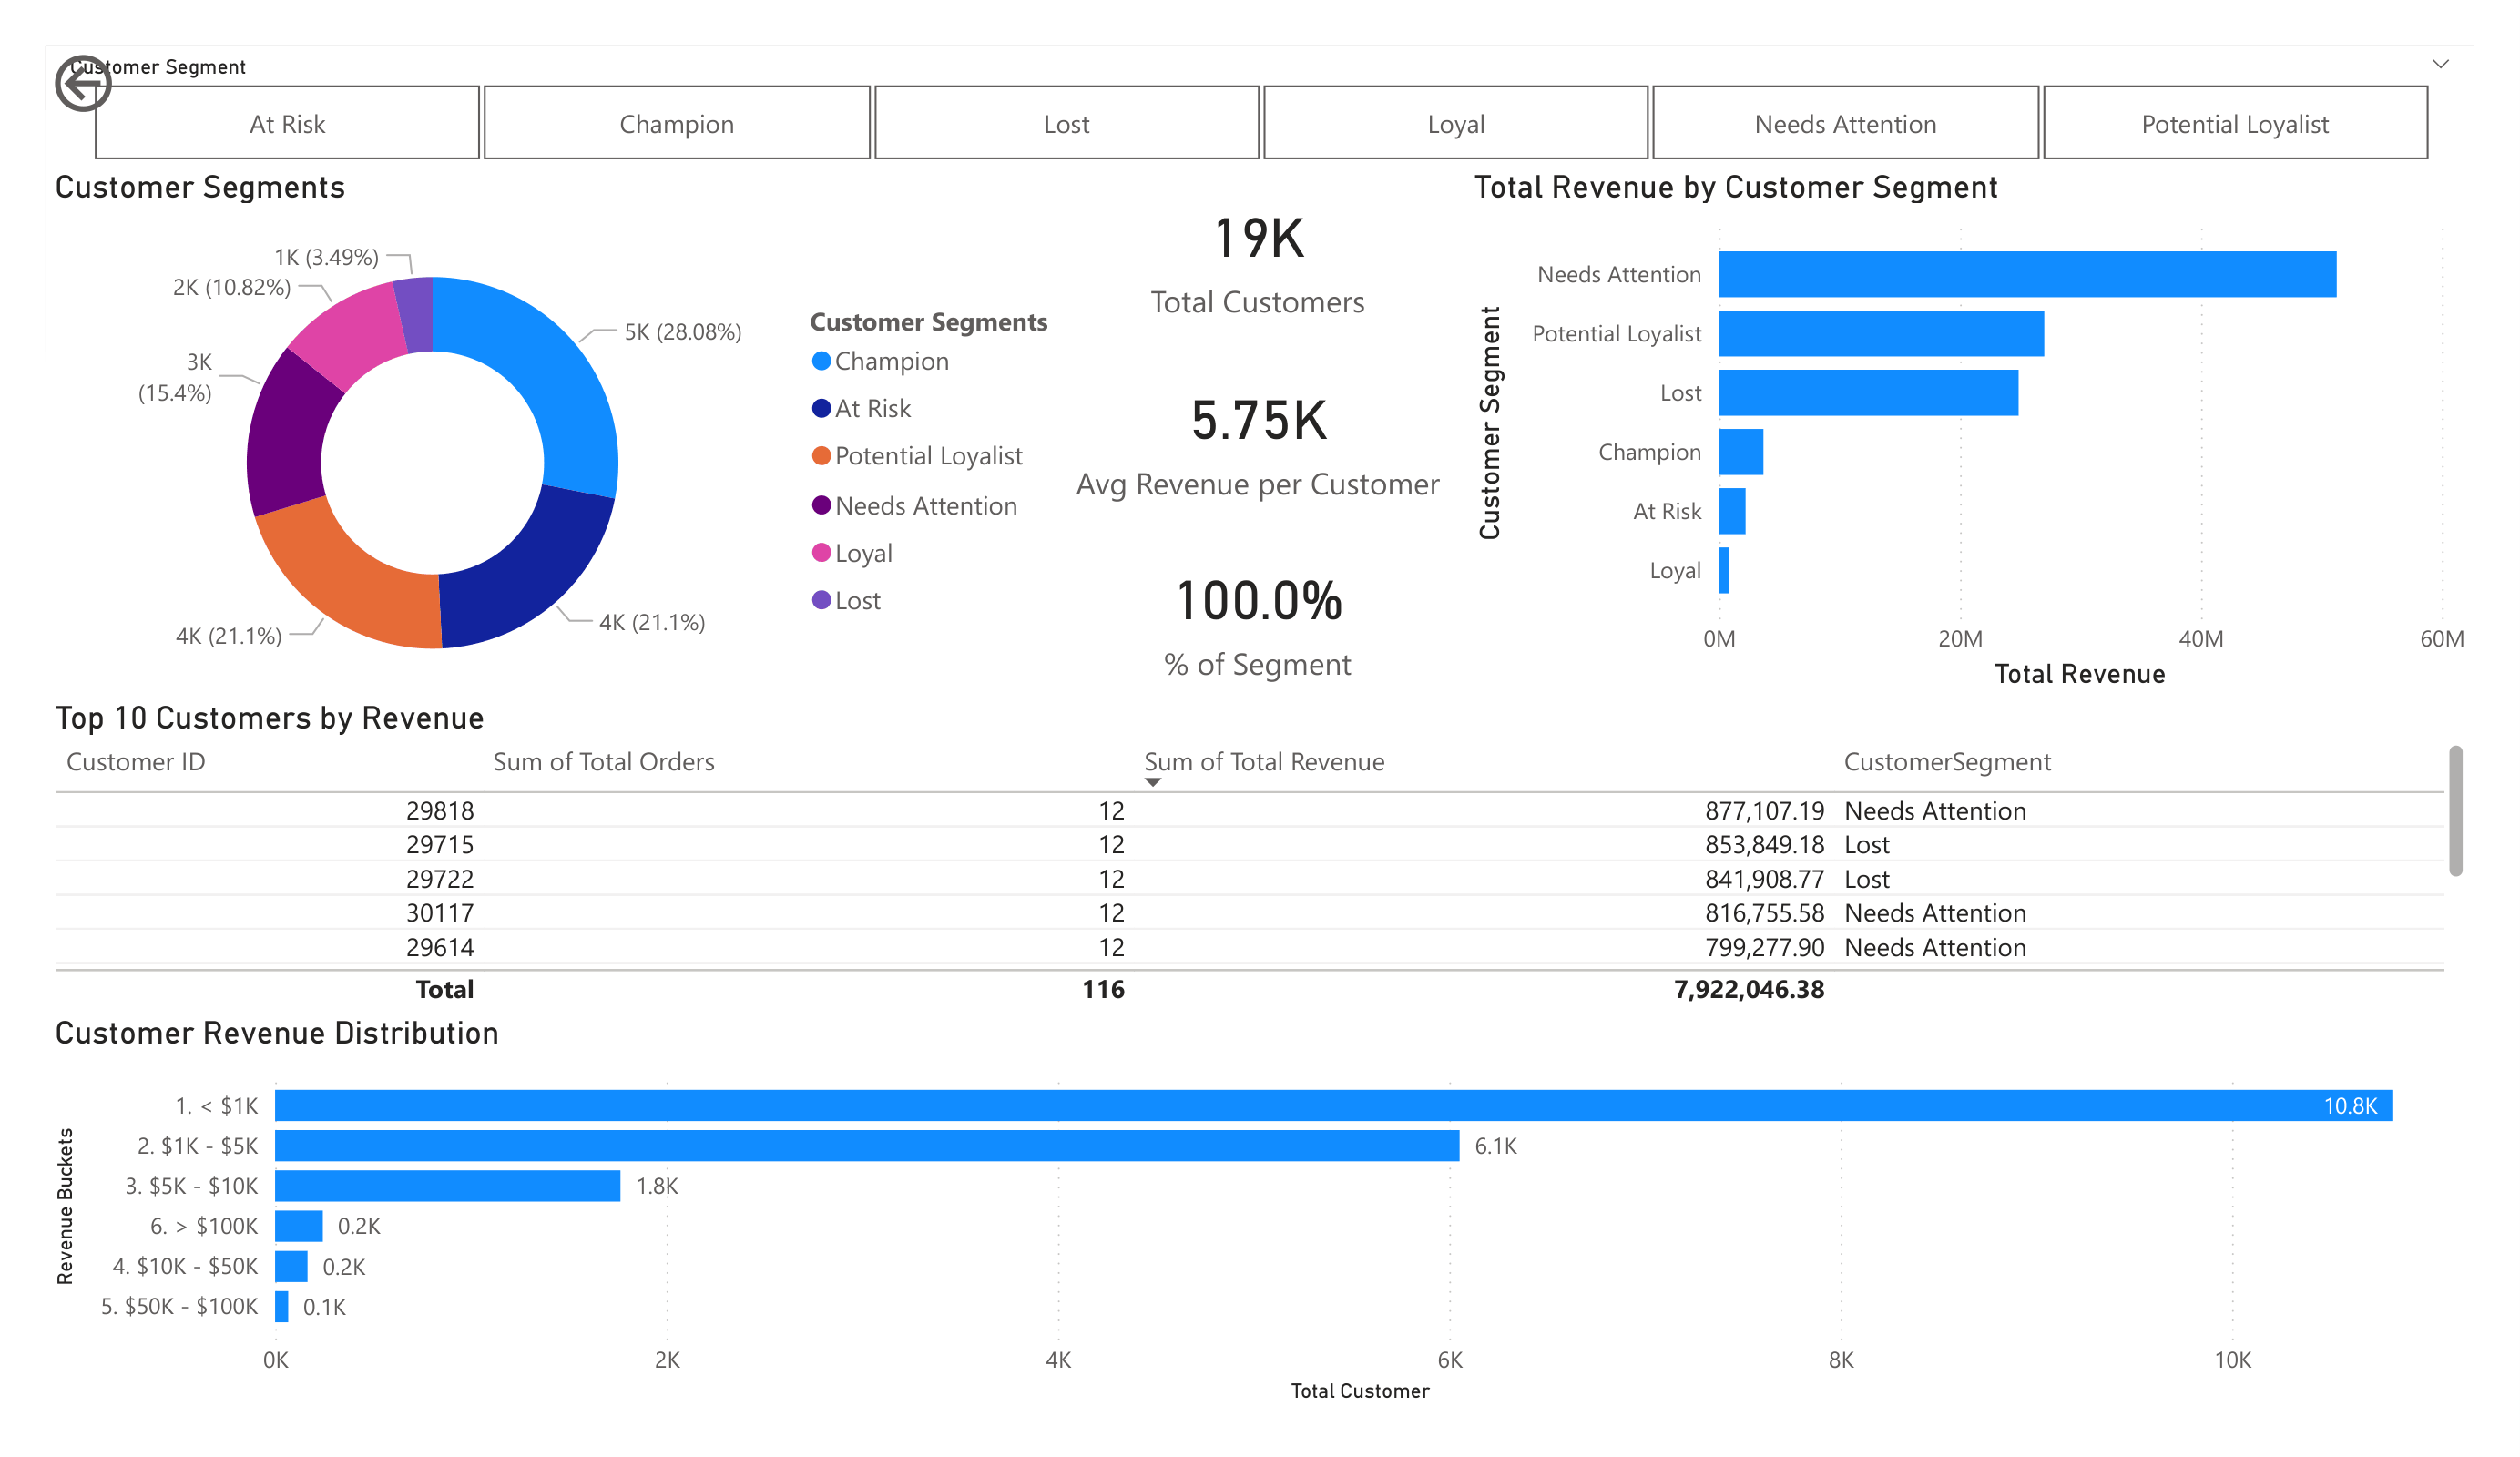

What the dashboard file says about the page in this screenshot:
{"tool":"powerbi","page":{"name":"Customer Analysis","canvas":[1280,720],"ordinal":1},"visuals":[{"type":"donutChart","title":"Customer Segments","fields":{"Category":["analytics vw_RFM_Segments.CustomerSegment"],"Y":["_Measures.Total Customers"]},"box":[0,64,549,293],"z":0},{"type":"clusteredBarChart","fields":{"Category":["analytics vw_RFM_Segments.CustomerSegment"],"Y":["_Measures.Total Revenue"]},"box":[748,64,532,280],"z":1000},{"type":"card","fields":{"Values":["_Measures.Total Customers"]},"box":[530,67,218,86],"z":2000},{"type":"card","fields":{"Values":["_Measures.Avg Revenue per Customer"]},"box":[530,153,218,106],"z":3000},{"type":"card","fields":{"Values":["_Measures.% of Total Customers"]},"box":[530,258,218,86],"z":4000},{"type":"slicer","fields":{"Values":["analytics vw_RFM_Segments.CustomerSegment"]},"box":[0,0,1280,67],"z":5000},{"type":"actionButton","box":[0,0,100,40],"z":6000},{"type":"clusteredBarChart","title":"Customer Revenue Distribution","fields":{"Category":["analytics vw_CustomerSummary.Revenue Bucket"],"Y":["_Measures.Total Customers"]},"box":[0,510,1280,210],"z":7000},{"type":"tableEx","title":"Top 10 Customers by Revenue","fields":{"Values":["analytics vw_CustomerSummary.CustomerID","Sum(analytics vw_CustomerSummary.TotalOrders)","Sum(analytics vw_CustomerSummary.TotalRevenue)","analytics vw_RFM_Segments.CustomerSegment"]},"box":[0,344,1280,166],"z":8000}]}

Visuals, with their boxes on the page's 1280x720 design canvas (x1, y1, x2, y2). These are canvas units, not pixel positions in the 2520x1457 screenshot, which may show the page scaled, cropped or inside an application window:
"Customer Segments" donutChart: {"left": 0, "top": 64, "right": 549, "bottom": 357}
clusteredBarChart - analytics vw_RFM_Segments.CustomerSegment x _Measures.Total Revenue: {"left": 748, "top": 64, "right": 1280, "bottom": 344}
card - _Measures.Total Customers: {"left": 530, "top": 67, "right": 748, "bottom": 153}
card - _Measures.Avg Revenue per Customer: {"left": 530, "top": 153, "right": 748, "bottom": 259}
card - _Measures.% of Total Customers: {"left": 530, "top": 258, "right": 748, "bottom": 344}
slicer - analytics vw_RFM_Segments.CustomerSegment: {"left": 0, "top": 0, "right": 1280, "bottom": 67}
actionButton: {"left": 0, "top": 0, "right": 100, "bottom": 40}
"Customer Revenue Distribution" clusteredBarChart: {"left": 0, "top": 510, "right": 1280, "bottom": 720}
"Top 10 Customers by Revenue" tableEx: {"left": 0, "top": 344, "right": 1280, "bottom": 510}
